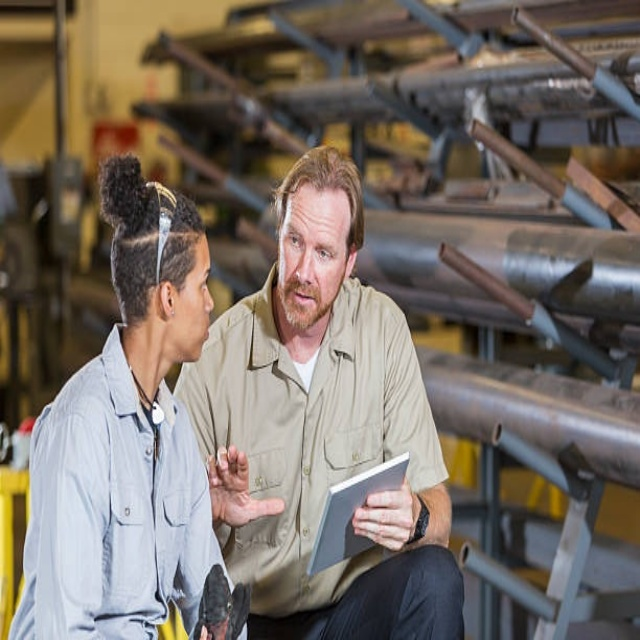Guantes: (191, 564, 250, 640)
Sin_gafas: (282, 213, 342, 271), (180, 260, 212, 296)
Sin_guantes: (206, 442, 286, 530), (352, 474, 417, 552)
Sin_mascara: (182, 307, 214, 356), (283, 281, 319, 320)
